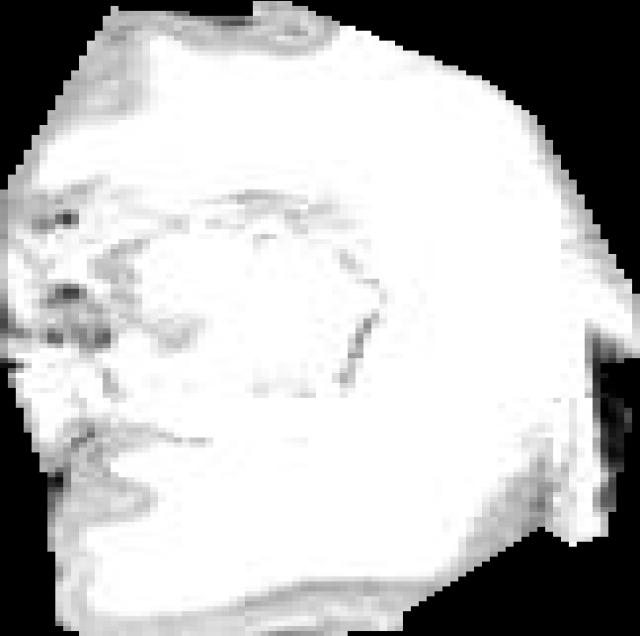tumor_less_chance: (0, 1, 640, 636)
